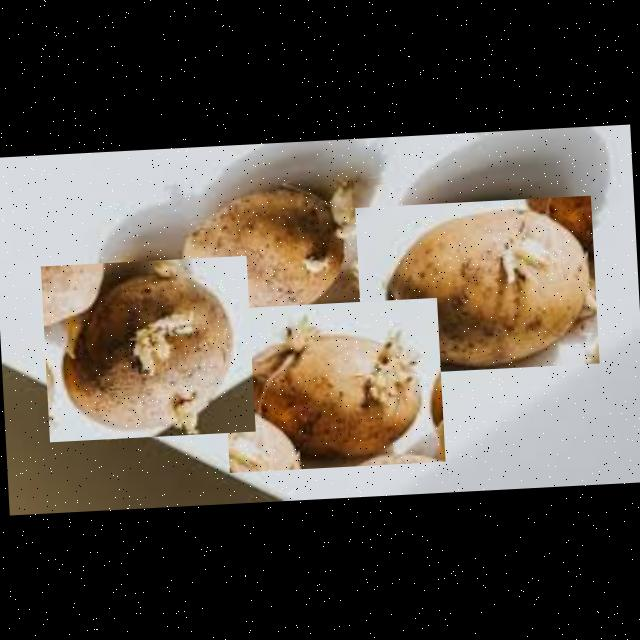Sprouted potato: (356, 196, 600, 376), (41, 255, 256, 442), (222, 298, 446, 473), (174, 168, 380, 322)
